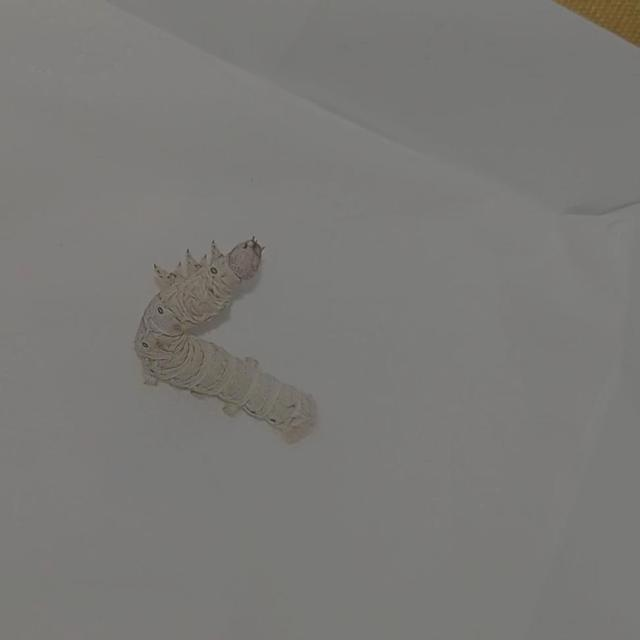Healthy: (118, 224, 328, 457)
